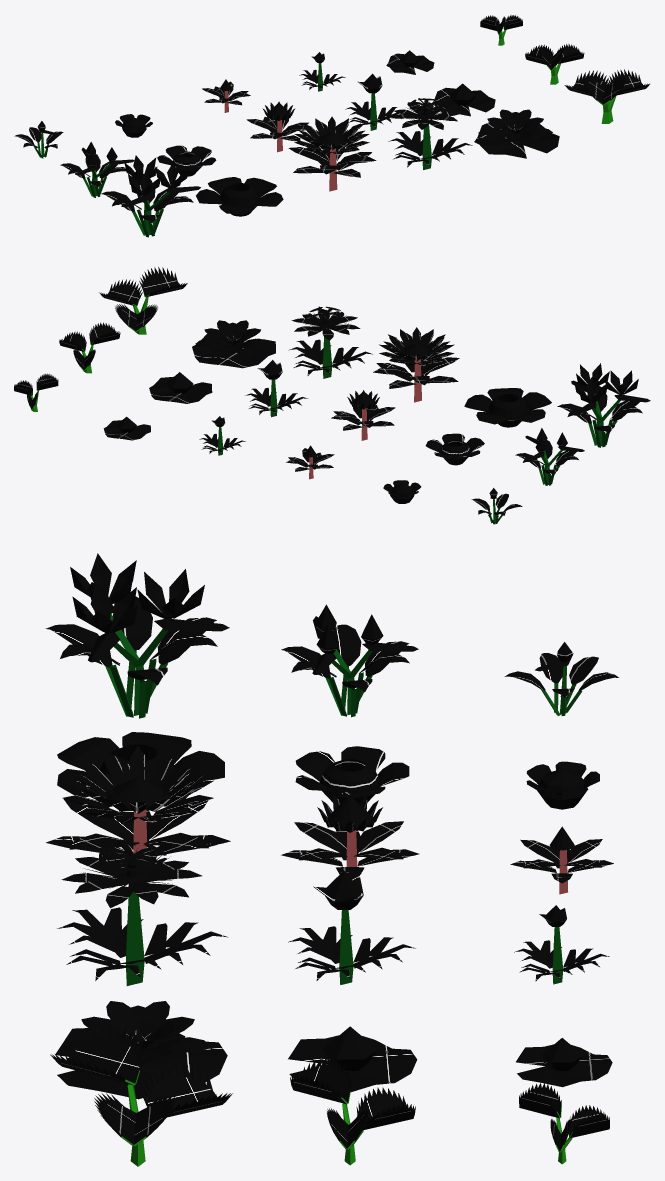
File: FlowersRare.fbx
3 renders of one model, top to bottom at view 1: azimuth 30°, elevation 25°; view 2: azimuth 150°, elevation 25°; view 3: azimuth 270°, elevation 25°, orthographic. The views are drawn at different scales.
Parts seen in each view (by area): view 1: Protea3, Strelitzia3, Lotus3, Passionflower3, Rafflesia3, VenusFlytrap3, Strelitzia2, Protea2, Lotus2, Rafflesia2, Passionflower2, VenusFlytrap2 (+6 smaller); view 2: Protea3, Strelitzia3, Lotus3, Passionflower3, VenusFlytrap3, Rafflesia3, Strelitzia2, Protea2, Lotus2, VenusFlytrap2, Rafflesia2, Passionflower2 (+6 smaller); view 3: Strelitzia3, Protea3, Passionflower3, VenusFlytrap3, Lotus3, Strelitzia2, Protea2, VenusFlytrap2, Rafflesia3, Lotus2, Passionflower2, Rafflesia2 (+6 smaller).
Part boxes in pixels (x1=…): Protea3: x1=288, y1=116, x2=376, y2=191; Strelitzia3: x1=101, y1=155, x2=200, y2=237; Lotus3: x1=474, y1=109, x2=559, y2=158; Passionflower3: x1=388, y1=98, x2=472, y2=169; Rafflesia3: x1=196, y1=177, x2=283, y2=216; VenusFlytrap3: x1=564, y1=69, x2=649, y2=123; Strelitzia2: x1=60, y1=141, x2=134, y2=197; Protea2: x1=246, y1=101, x2=308, y2=152; Lotus2: x1=432, y1=83, x2=495, y2=116; Rafflesia2: x1=157, y1=145, x2=216, y2=176; Passionflower2: x1=345, y1=73, x2=401, y2=130; VenusFlytrap2: x1=525, y1=44, x2=584, y2=84; Protea3: x1=373, y1=327, x2=459, y2=402; Strelitzia3: x1=557, y1=363, x2=650, y2=447; Lotus3: x1=192, y1=320, x2=275, y2=368; Passionflower3: x1=288, y1=306, x2=372, y2=378; VenusFlytrap3: x1=99, y1=267, x2=187, y2=334; Rafflesia3: x1=464, y1=388, x2=551, y2=427; Strelitzia2: x1=515, y1=428, x2=584, y2=485; Protea2: x1=331, y1=390, x2=395, y2=440; Lotus2: x1=149, y1=372, x2=212, y2=403; VenusFlytrap2: x1=59, y1=322, x2=120, y2=373; Rafflesia2: x1=425, y1=433, x2=484, y2=465; Passionflower2: x1=245, y1=360, x2=308, y2=417; Strelitzia3: x1=45, y1=553, x2=229, y2=718; Protea3: x1=46, y1=746, x2=230, y2=882; Passionflower3: x1=57, y1=842, x2=227, y2=985; VenusFlytrap3: x1=50, y1=1023, x2=232, y2=1166; Lotus3: x1=55, y1=1001, x2=227, y2=1099; Strelitzia2: x1=281, y1=604, x2=418, y2=717; Protea2: x1=281, y1=793, x2=419, y2=879; VenusFlytrap2: x1=290, y1=1058, x2=415, y2=1165; Rafflesia3: x1=57, y1=732, x2=224, y2=800; Lotus2: x1=288, y1=1026, x2=417, y2=1092; Passionflower2: x1=288, y1=870, x2=415, y2=984; Rafflesia2: x1=295, y1=746, x2=409, y2=803.
Size of the model in its own units: 583 by 69.11 by 271.
